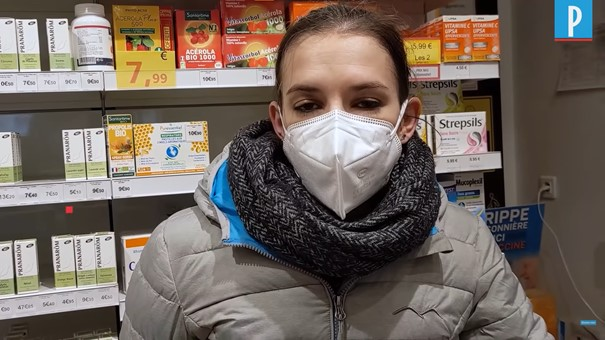with_mask: (269, 29, 424, 218)
